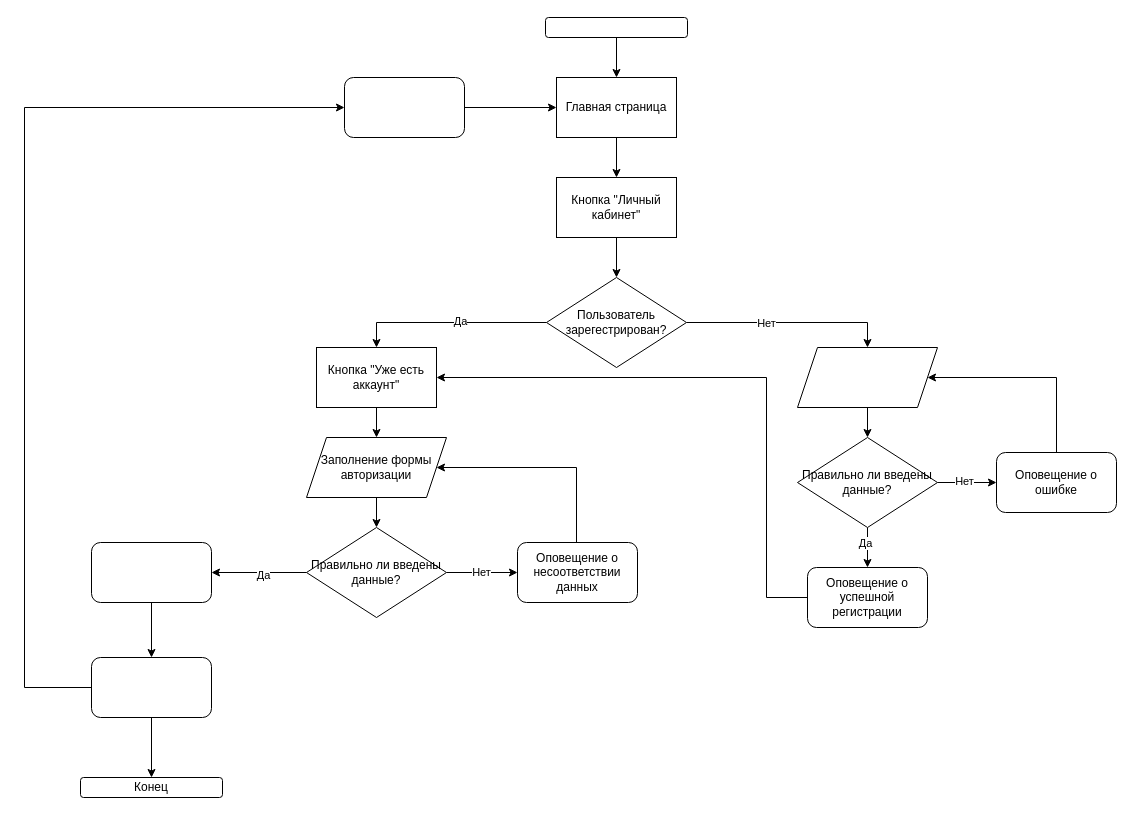
Image size: 1134x815. Some labels were removed from this diagram. The box of each missing label's shape, as (x1, y1, x2, y2) in pixels:
Выход с личного кабинета: (344, 76, 464, 138)
Доступ в личный кабинет: (90, 656, 212, 718)
Заполнение формы регистрации: (796, 346, 938, 408)
Начало: (544, 16, 688, 38)
Оповещение о успешной авторизации: (90, 542, 212, 602)
